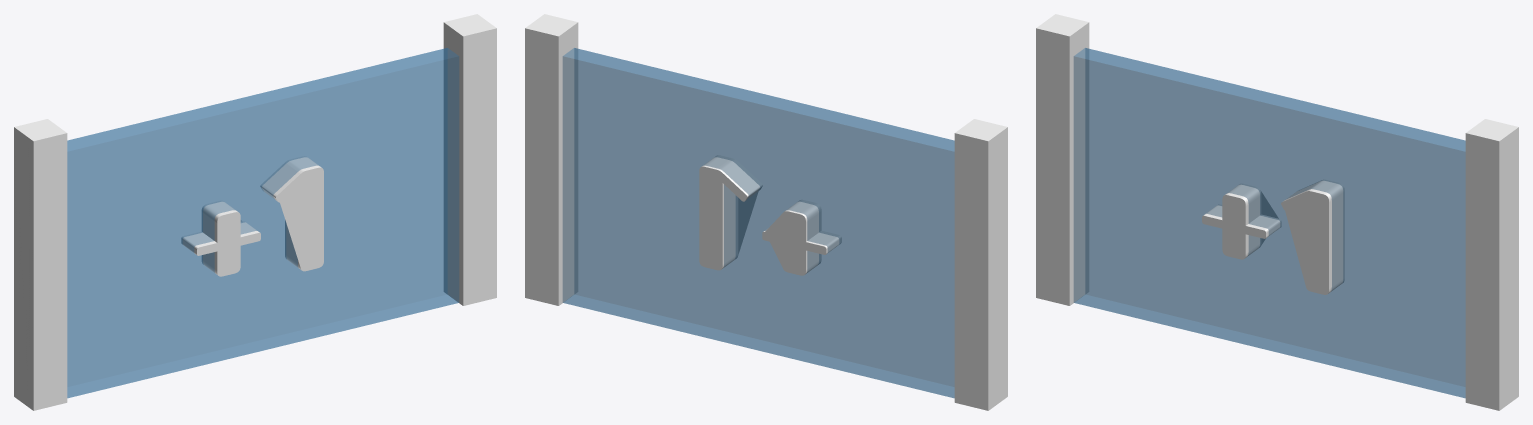
The picture shows the model from 3 angles, left to right: view 1: azimuth 30°, elevation 25°; view 2: azimuth 150°, elevation 25°; view 3: azimuth 330°, elevation 25°; orthographic projection.
Visible parts, largest first — view 1: Cube, Cube_1, Cube_2, 1_3, _; view 2: Cube, Cube_1, Cube_2, 1_3, _; view 3: Cube, Cube_2, Cube_1, 1_3, _.
Boxes of the visible parts, x1,y1,x2,y2 form: Cube: (67, 48, 458, 397); Cube_1: (14, 119, 67, 410); Cube_2: (443, 14, 496, 305); 1_3: (260, 156, 323, 271); _: (181, 201, 260, 276); Cube: (563, 48, 954, 397); Cube_1: (954, 119, 1007, 410); Cube_2: (525, 14, 578, 305); 1_3: (699, 155, 762, 270); _: (762, 200, 841, 275); Cube: (1074, 48, 1465, 397); Cube_2: (1465, 119, 1518, 410); Cube_1: (1036, 14, 1089, 305); 1_3: (1281, 180, 1344, 294); _: (1202, 184, 1281, 259).
Bounding box in the file's own units: 393 × 219 × 28.63.
